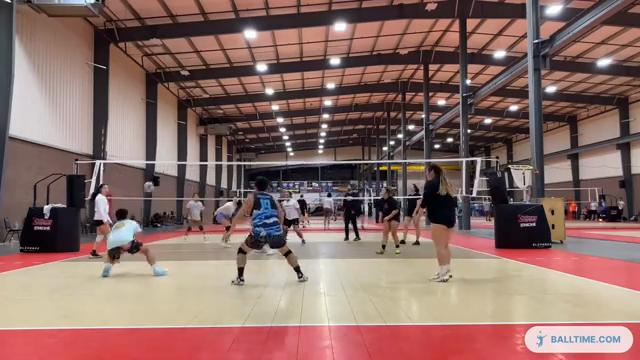ricezione: (97, 205, 168, 278)
